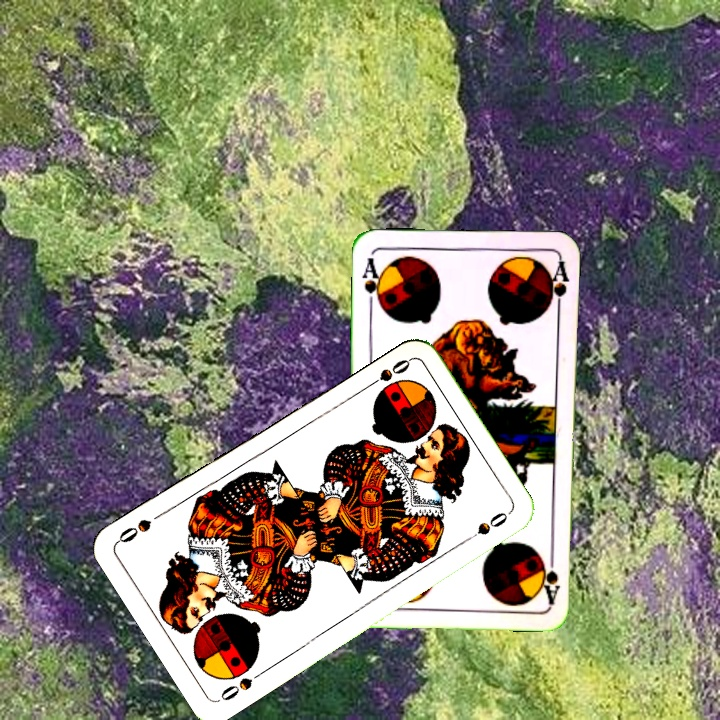SA: (358, 254, 386, 312), (538, 546, 562, 605)
SO: (360, 355, 413, 393), (215, 666, 268, 704)
